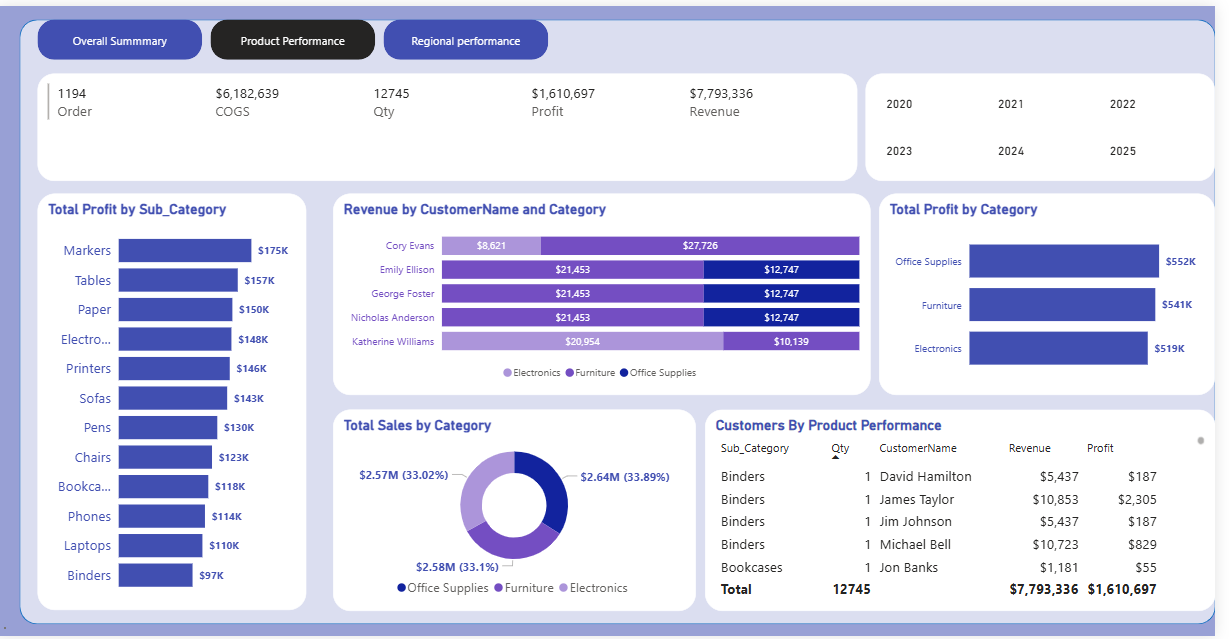

This screenshot's page, from the dashboard's own definition file:
{"tool":"powerbi","page":{"name":"Product Performance","canvas":[1450,750],"ordinal":1},"visuals":[{"type":"shape","box":[26,16,1424,720],"z":0},{"type":"donutChart","title":"Total Sales by Category","fields":{"Category":["Sales Dataset.Category"],"Y":["Sales Dataset.Sales"]},"box":[400,480,432,240],"z":1000},{"type":"clusteredBarChart","title":"Total Profit by Sub_Category","fields":{"Category":["Sales Dataset.Sub_Category"],"Y":["Sales Dataset.Profit"]},"box":[48,224,320,496],"z":2000},{"type":"barChart","title":"Total Profit by Category","fields":{"Y":["Sales Dataset.Profit"],"Category":["Sales Dataset.Category"]},"box":[1050,224,400,240],"z":3000},{"type":"tableEx","title":" Customers By Product Performance","fields":{"Values":["Sales Dataset.Sub_Category","Sales Dataset.Quantity","Sales Dataset.CustomerName","Sales Dataset.Revenue","Sales Dataset.Profit"]},"box":[842,480,608,240],"z":4000},{"type":"multiRowCard","fields":{"Values":["Sales Dataset.Order_ID","Sales Dataset.TCOGS","Sales Dataset.Quantity","Sales Dataset.Profit","Sales Dataset.Sales"]},"box":[48,80,976,128],"z":5000},{"type":"hundredPercentStackedBarChart","title":"Revenue by CustomerName and Category","fields":{"Category":["Sales Dataset.CustomerName"],"Y":["Sales Dataset.Sales"],"Series":["Sales Dataset.Category"]},"box":[400,224,640,240],"z":6000},{"type":"advancedSlicerVisual","fields":{"Values":["Date Table.Year"]},"box":[1034,80,416,128],"z":7000},{"type":"pageNavigator","box":[48,16,608,48],"z":8000}]}

Visuals, with their boxes in screenshot pixels (x1, y1, x2, y2), scaled from the page's 1450x750 canvas onto the 1229x639 screenshot:
shape: [22, 14, 1228, 627]
"Total Sales by Category" donutChart: [339, 409, 705, 613]
"Total Profit by Sub_Category" clusteredBarChart: [41, 191, 312, 613]
"Total Profit by Category" barChart: [890, 191, 1228, 395]
" Customers By Product Performance" tableEx: [714, 409, 1228, 613]
multiRowCard - Sales Dataset.Order_ID x Sales Dataset.TCOGS: [41, 68, 868, 177]
"Revenue by CustomerName and Category" hundredPercentStackedBarChart: [339, 191, 881, 395]
advancedSlicerVisual - Date Table.Year: [876, 68, 1228, 177]
pageNavigator: [41, 14, 556, 55]
